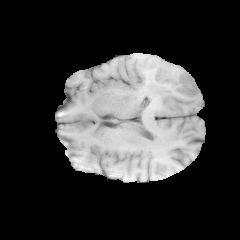glioma: (138, 60, 198, 113)
